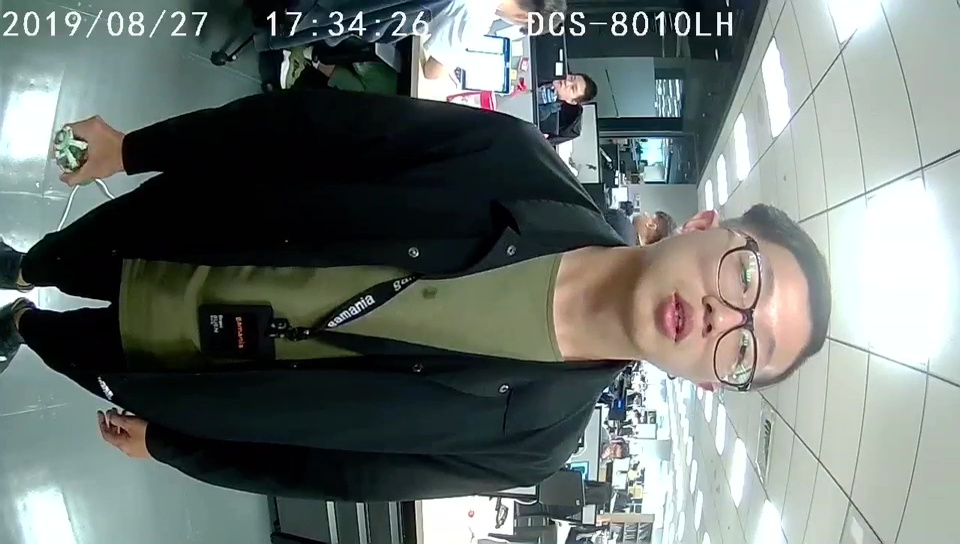buzz: (50, 122, 87, 173)
